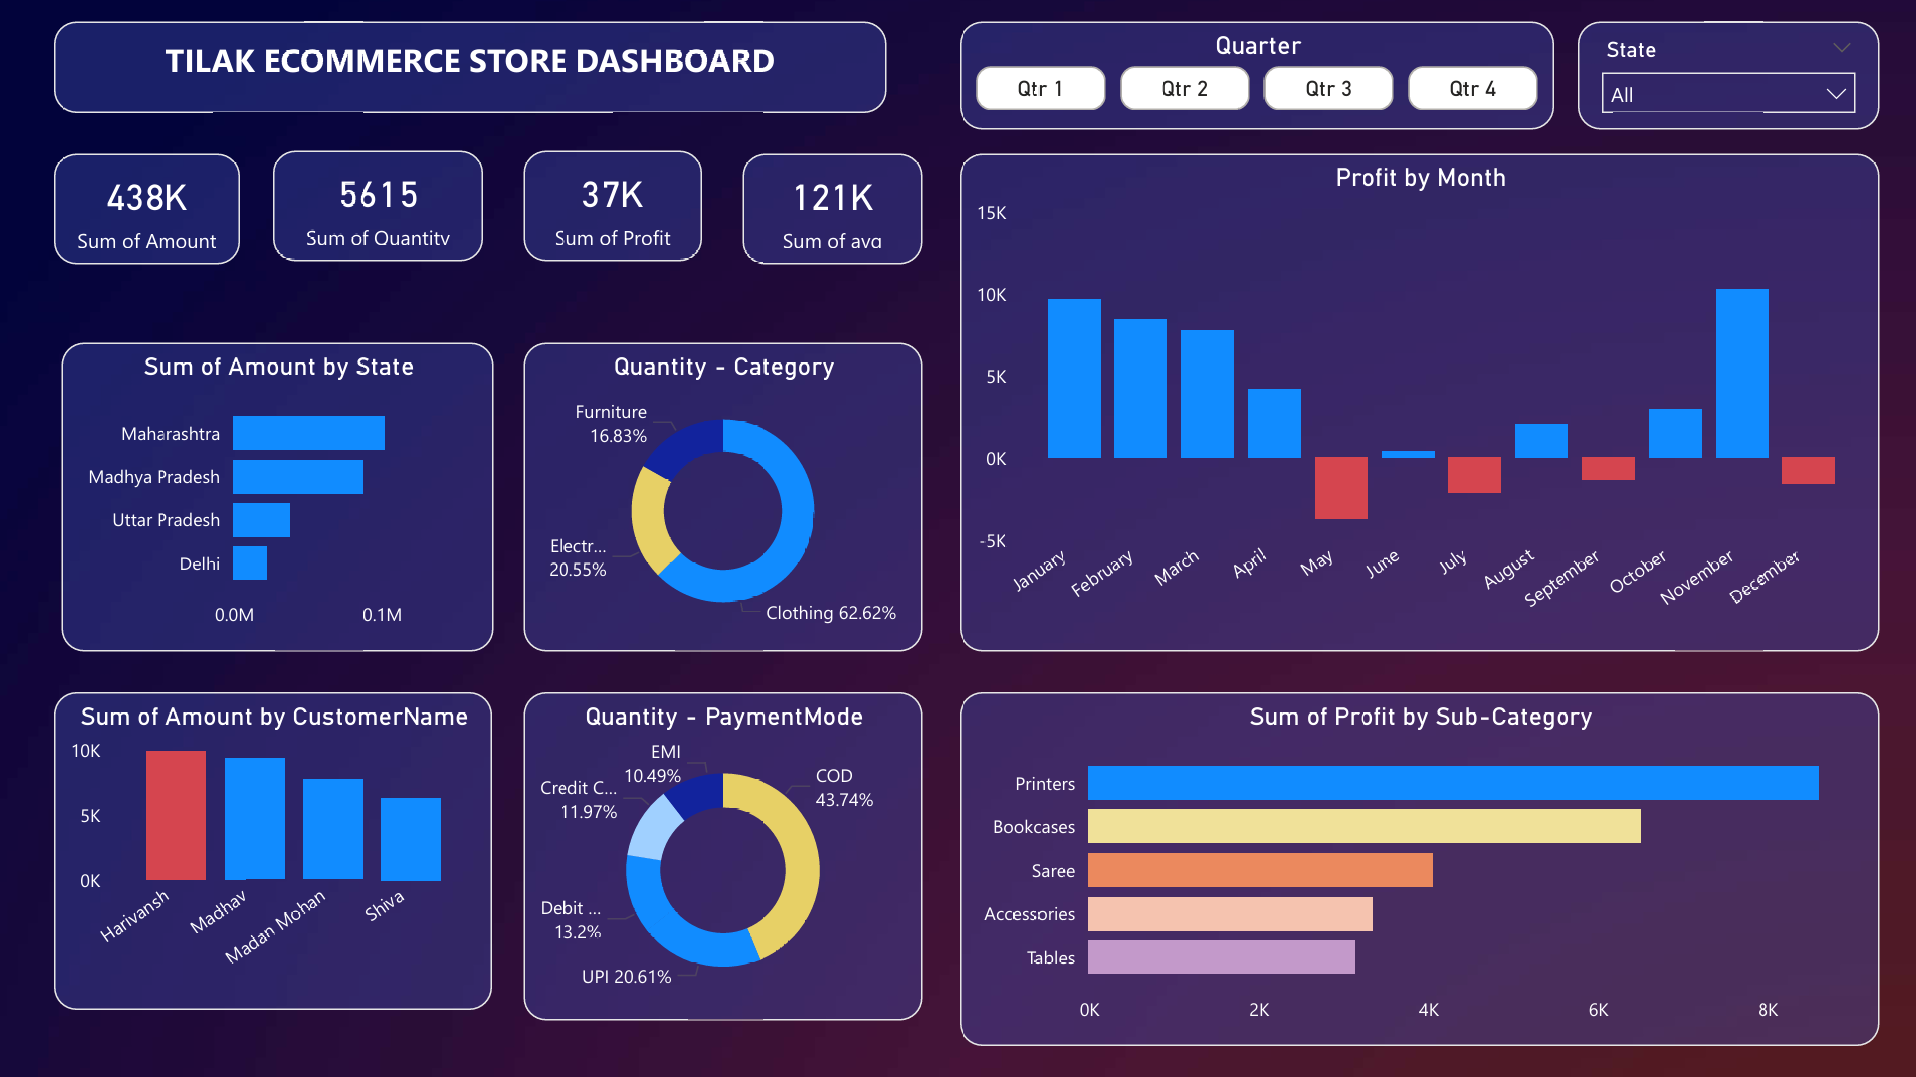

What the dashboard file says about the page in this screenshot:
{"tool":"powerbi","page":{"name":"Page 1","canvas":[1280,720],"ordinal":0},"visuals":[{"type":"textbox","box":[35.9,15.1,555,61.4],"z":0},{"type":"columnChart","title":"Profit by Month","fields":{"Category":["Orders (1).Order Date.Variation.Date Hierarchy.Month"],"Y":["Details.Profit"]},"box":[639.6,103.1,613,331.4],"z":1000},{"type":"barChart","fields":{"Category":["Details.Sub-Category"],"Y":["Details.Profit"]},"box":[639.6,462.3,613,235.2],"z":2000},{"type":"donutChart","title":"Quantity -  Category","fields":{"Category":["Details.Category"],"Y":["Details.Quantity"]},"box":[348.8,229.4,266.5,205.1],"z":2001},{"type":"donutChart","title":"Quantity -  PaymentMode","fields":{"Y":["Details.Quantity"],"Category":["Details.PaymentMode"]},"box":[348.8,462.3,266.5,219],"z":2002},{"type":"card","fields":{"Values":["Details.Amount"]},"box":[35.9,103.1,124,74.2],"z":2003},{"type":"card","fields":{"Values":["Details.Quantity"]},"box":[181.9,100.8,140.2,74.2],"z":2004},{"type":"card","fields":{"Values":["Details.avg"]},"box":[494.8,103.1,120.5,74.2],"z":2005},{"type":"card","fields":{"Values":["Details.Profit"]},"box":[348.8,100.8,119.3,74.2],"z":2006},{"type":"barChart","fields":{"Y":["Details.Amount"],"Category":["Orders (1).State"]},"box":[40.6,229.4,288.5,205.1],"z":2008},{"type":"columnChart","fields":{"Category":["Orders (1).CustomerName"],"Y":["Details.Amount"]},"box":[35.9,462.3,292,212],"z":2009},{"type":"advancedSlicerVisual","fields":{"Values":["Orders (1).Order Date.Variation.Date Hierarchy.Quarter"]},"box":[639.6,15.1,396.3,71.8],"z":2010},{"type":"slicer","fields":{"Values":["Orders (1).State"]},"box":[1052.1,15.1,200.5,71.8],"z":2011}]}

Visuals, with their boxes in screenshot pixels (x1, y1, x2, y2), scaled from the page's 1280x720 canvas onto the 1916x1077 screenshot:
textbox: [54, 23, 885, 114]
"Profit by Month" columnChart: [957, 154, 1875, 650]
barChart - Details.Sub-Category x Details.Profit: [957, 692, 1875, 1043]
"Quantity -  Category" donutChart: [522, 343, 921, 650]
"Quantity -  PaymentMode" donutChart: [522, 692, 921, 1019]
card - Details.Amount: [54, 154, 239, 265]
card - Details.Quantity: [272, 151, 482, 262]
card - Details.avg: [741, 154, 921, 265]
card - Details.Profit: [522, 151, 701, 262]
barChart - Details.Amount x Orders (1).State: [61, 343, 493, 650]
columnChart - Orders (1).CustomerName x Details.Amount: [54, 692, 491, 1009]
advancedSlicerVisual - Orders (1).Order Date.Variation.Date Hierarchy.Quarter: [957, 23, 1551, 130]
slicer - Orders (1).State: [1575, 23, 1875, 130]
